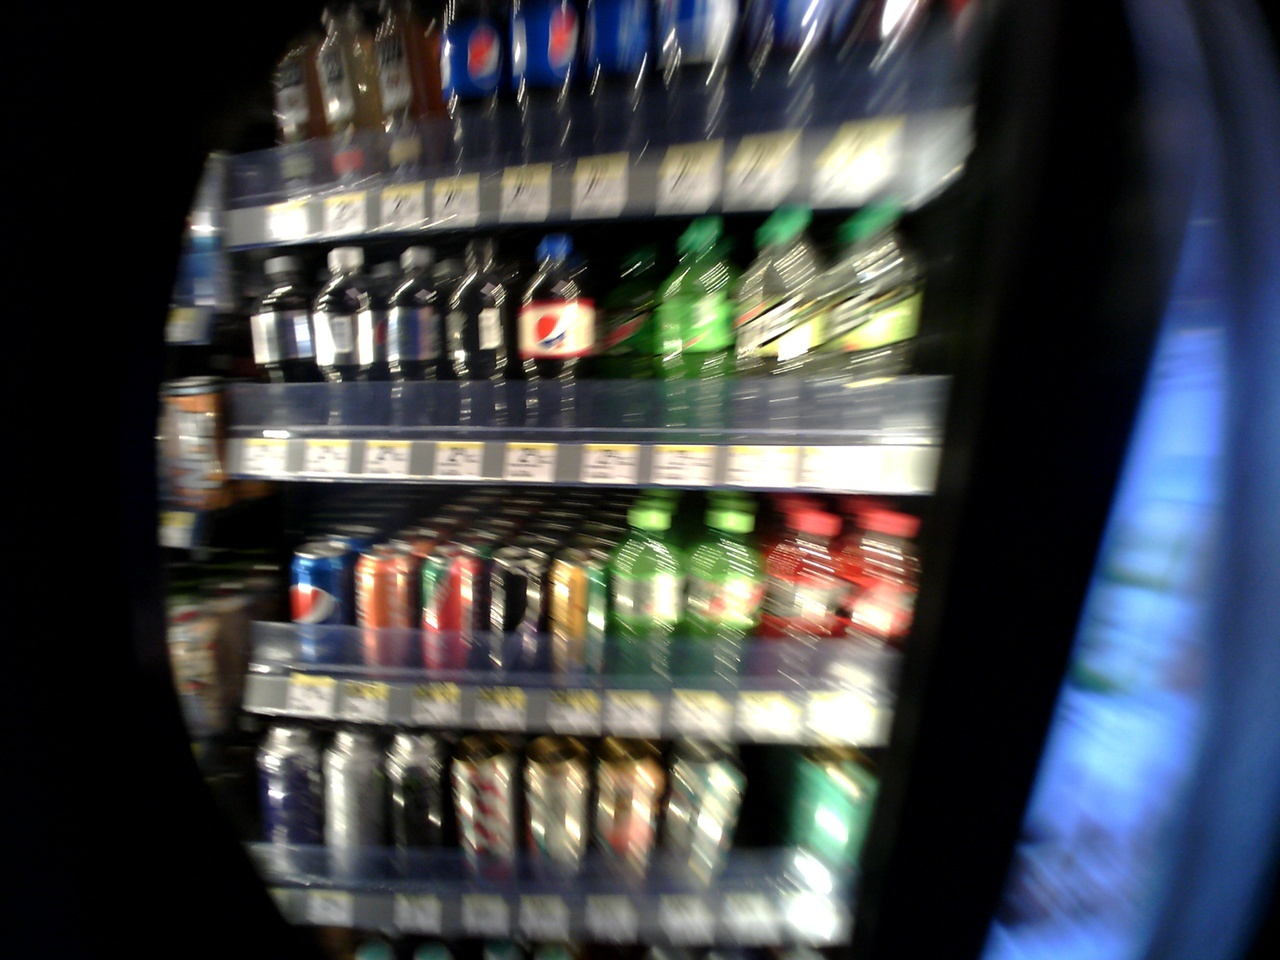shelf: (228, 203, 936, 505), (258, 484, 907, 734), (217, 2, 1011, 193), (226, 738, 891, 929)
